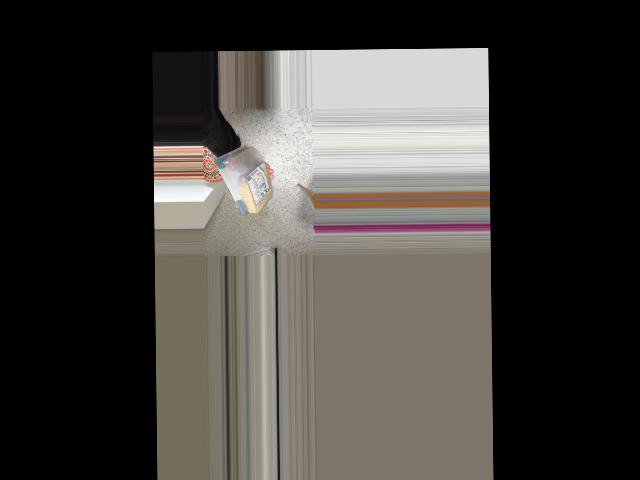cheese: (215, 133, 274, 219)
